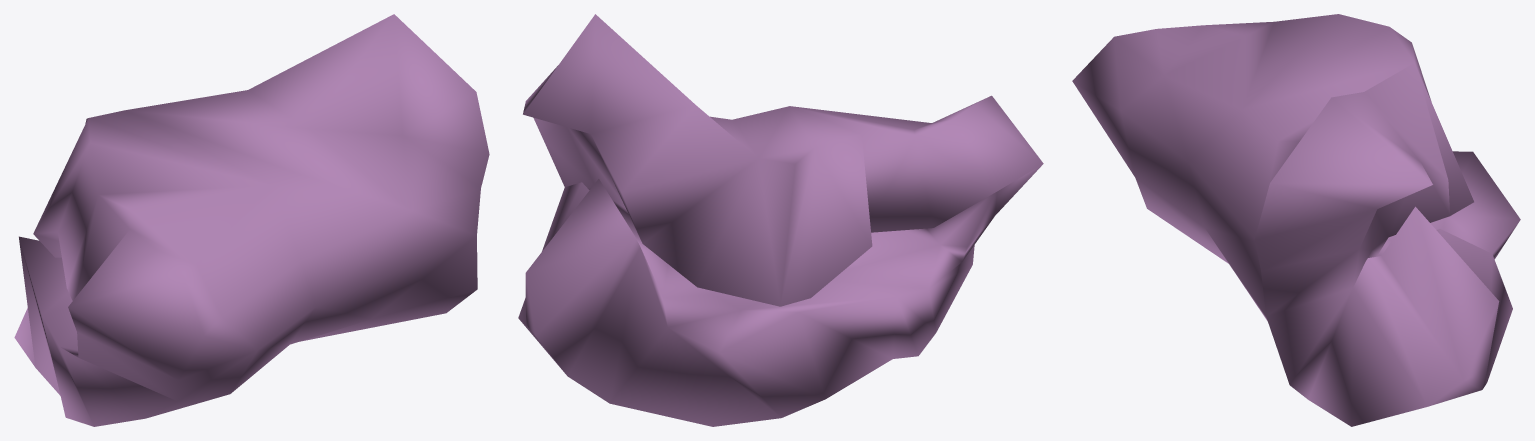
3 renders of one model, left to right at view 1: azimuth 30°, elevation 25°; view 2: azimuth 150°, elevation 25°; view 3: azimuth 270°, elevation 25°, orthographic. The views are drawn at different scales.
Visible parts, largest first — view 1: 右侧外侧沟前升支; view 2: 右侧外侧沟前升支; view 3: 右侧外侧沟前升支.
Part boxes in pixels (box(x1,y1,x2,y2)): 右侧外侧沟前升支: box(14, 14, 489, 426); 右侧外侧沟前升支: box(518, 14, 1043, 426); 右侧外侧沟前升支: box(1072, 14, 1520, 426).
Bounding box in the file's own units: 0.0225 × 0.0158 × 0.0194.
